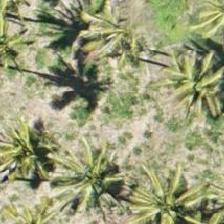coconut_tree: (45, 127, 135, 217), (117, 145, 207, 223), (63, 0, 153, 72), (0, 106, 69, 196), (167, 48, 223, 138), (0, 0, 53, 90)
